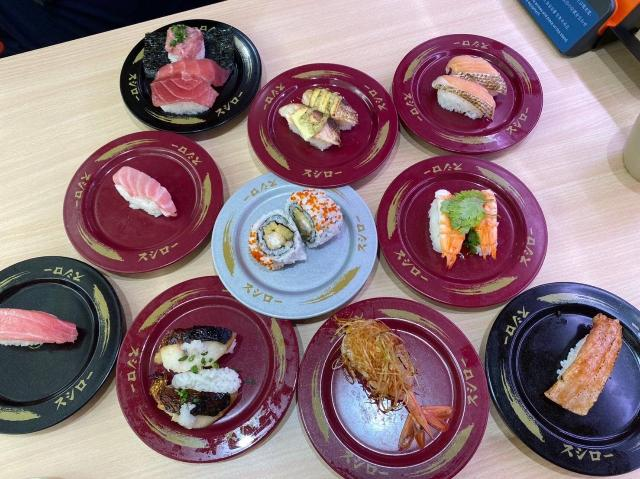janback: (494, 307, 640, 462), (0, 249, 119, 405), (133, 21, 262, 134)
janred: (276, 311, 481, 455), (140, 276, 300, 443), (385, 171, 544, 292), (267, 68, 413, 180), (85, 143, 223, 261), (411, 29, 545, 149)
janwhite: (235, 191, 374, 315)
